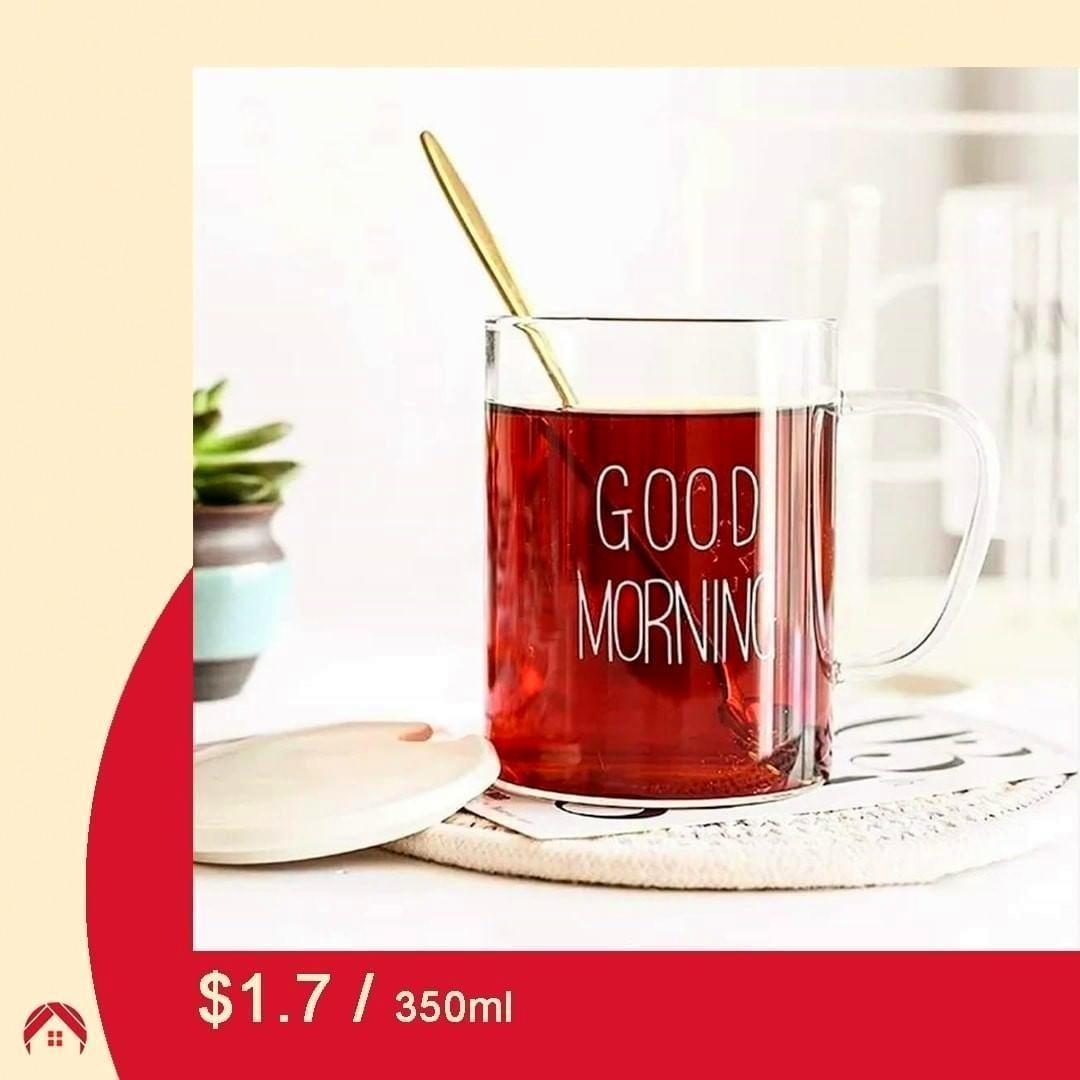glass-mug: (459, 295, 995, 809)
